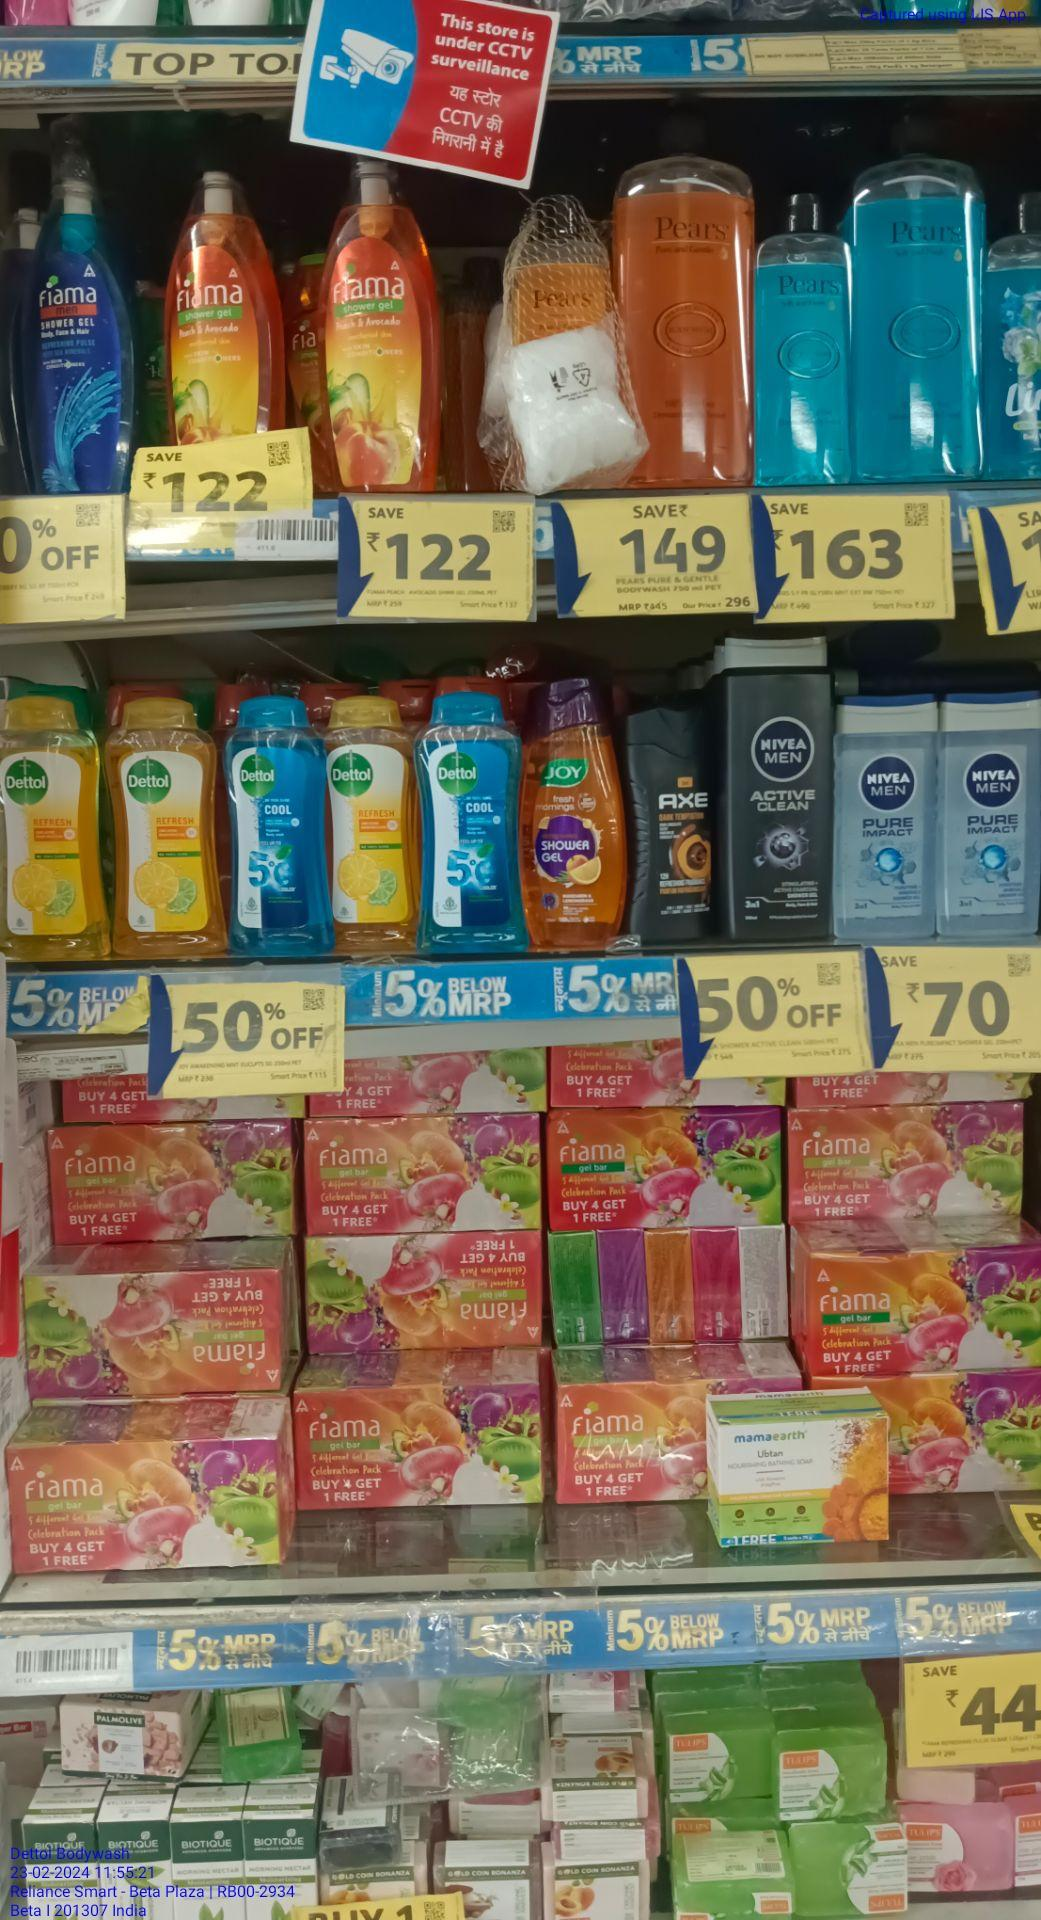Dettol_Bodywash_Cool: (422, 691, 529, 950), (222, 702, 328, 955)
Dettol_Bodywash_Refresh: (103, 704, 217, 955), (1, 687, 100, 963), (335, 695, 415, 950)
Joy_Shower_Gel_Mandarin_and_Lemongrass_250ML: (528, 669, 622, 947)
